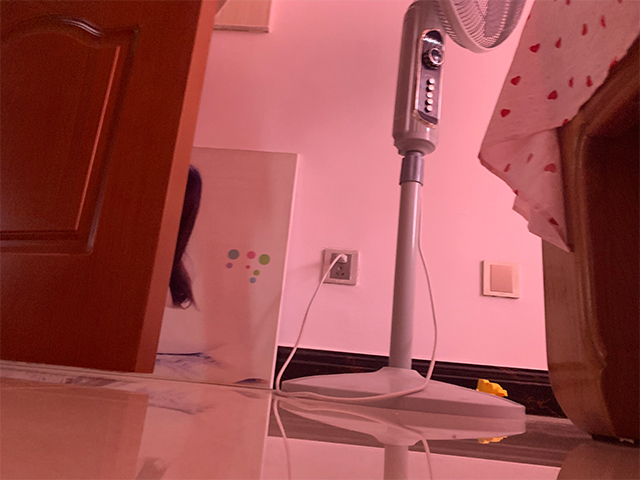wire: (274, 193, 440, 405)
